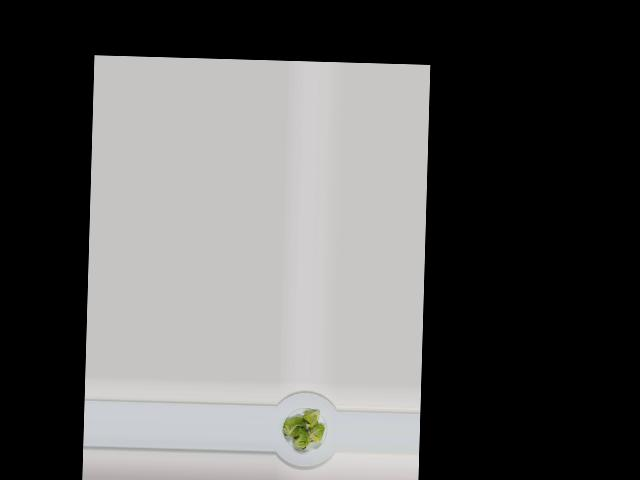lettuce: (278, 407, 324, 451)
